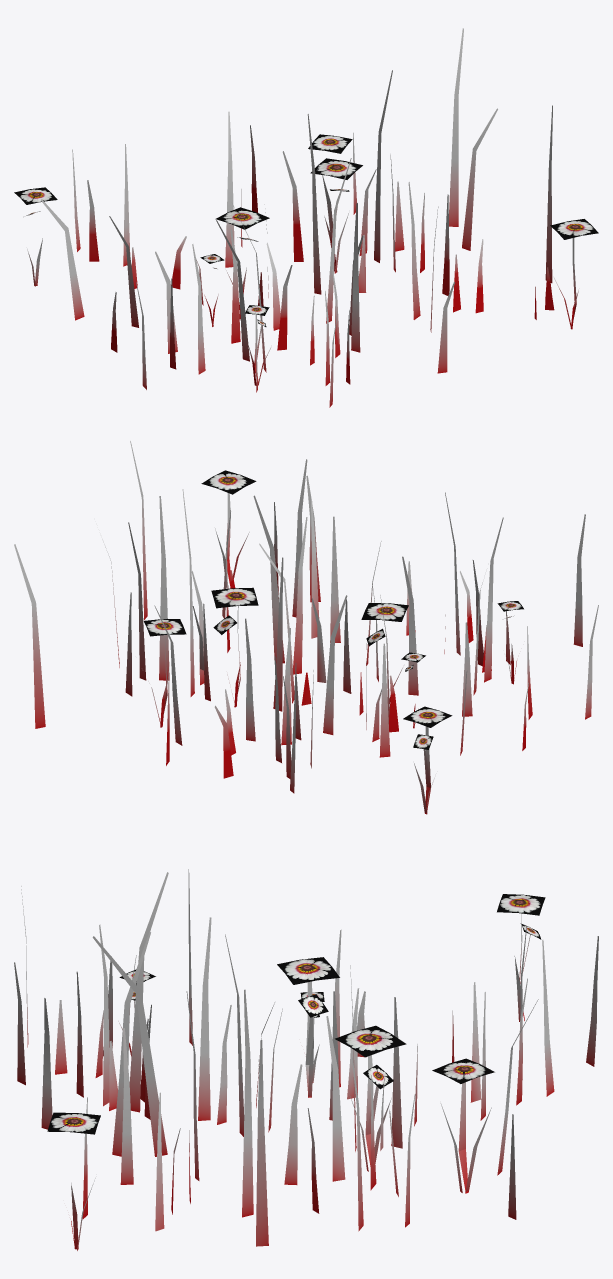
File: grass_meadow.gltf
The picture shows the model from 3 angles, top to bottom: view 1: azimuth 30°, elevation 25°; view 2: azimuth 150°, elevation 25°; view 3: azimuth 270°, elevation 25°; orthographic projection. The views are drawn at different scales.
Visible parts, largest first — view 1: Brindilles, Petales; view 2: Brindilles, Petales; view 3: Brindilles, Petales.
Part boxes in pixels (x1=…): Brindilles: x1=27, y1=28, x2=578, y2=407; Petales: x1=14, y1=134, x2=598, y2=326; Brindilles: x1=14, y1=441, x2=598, y2=814; Petales: x1=144, y1=470, x2=523, y2=749; Brindilles: x1=14, y1=869, x2=598, y2=1250; Petales: x1=47, y1=894, x2=545, y2=1134.
Bounding box in the file's own units: 6.3 × 2.74 × 5.81.
1 material, 1 textured.
